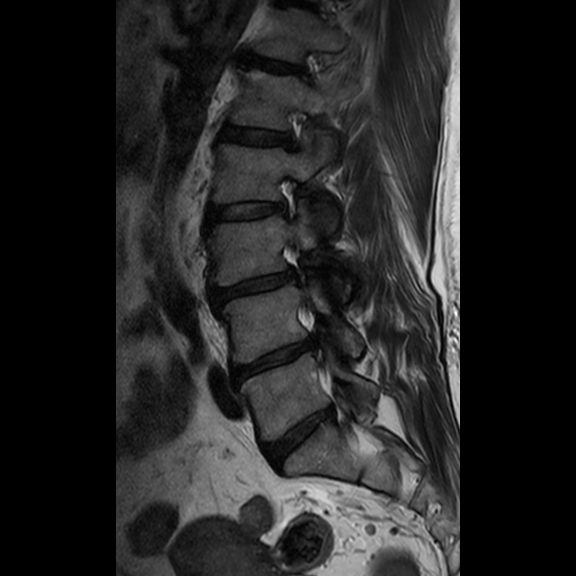LFS1: (264, 165, 308, 226), (274, 100, 315, 161)
